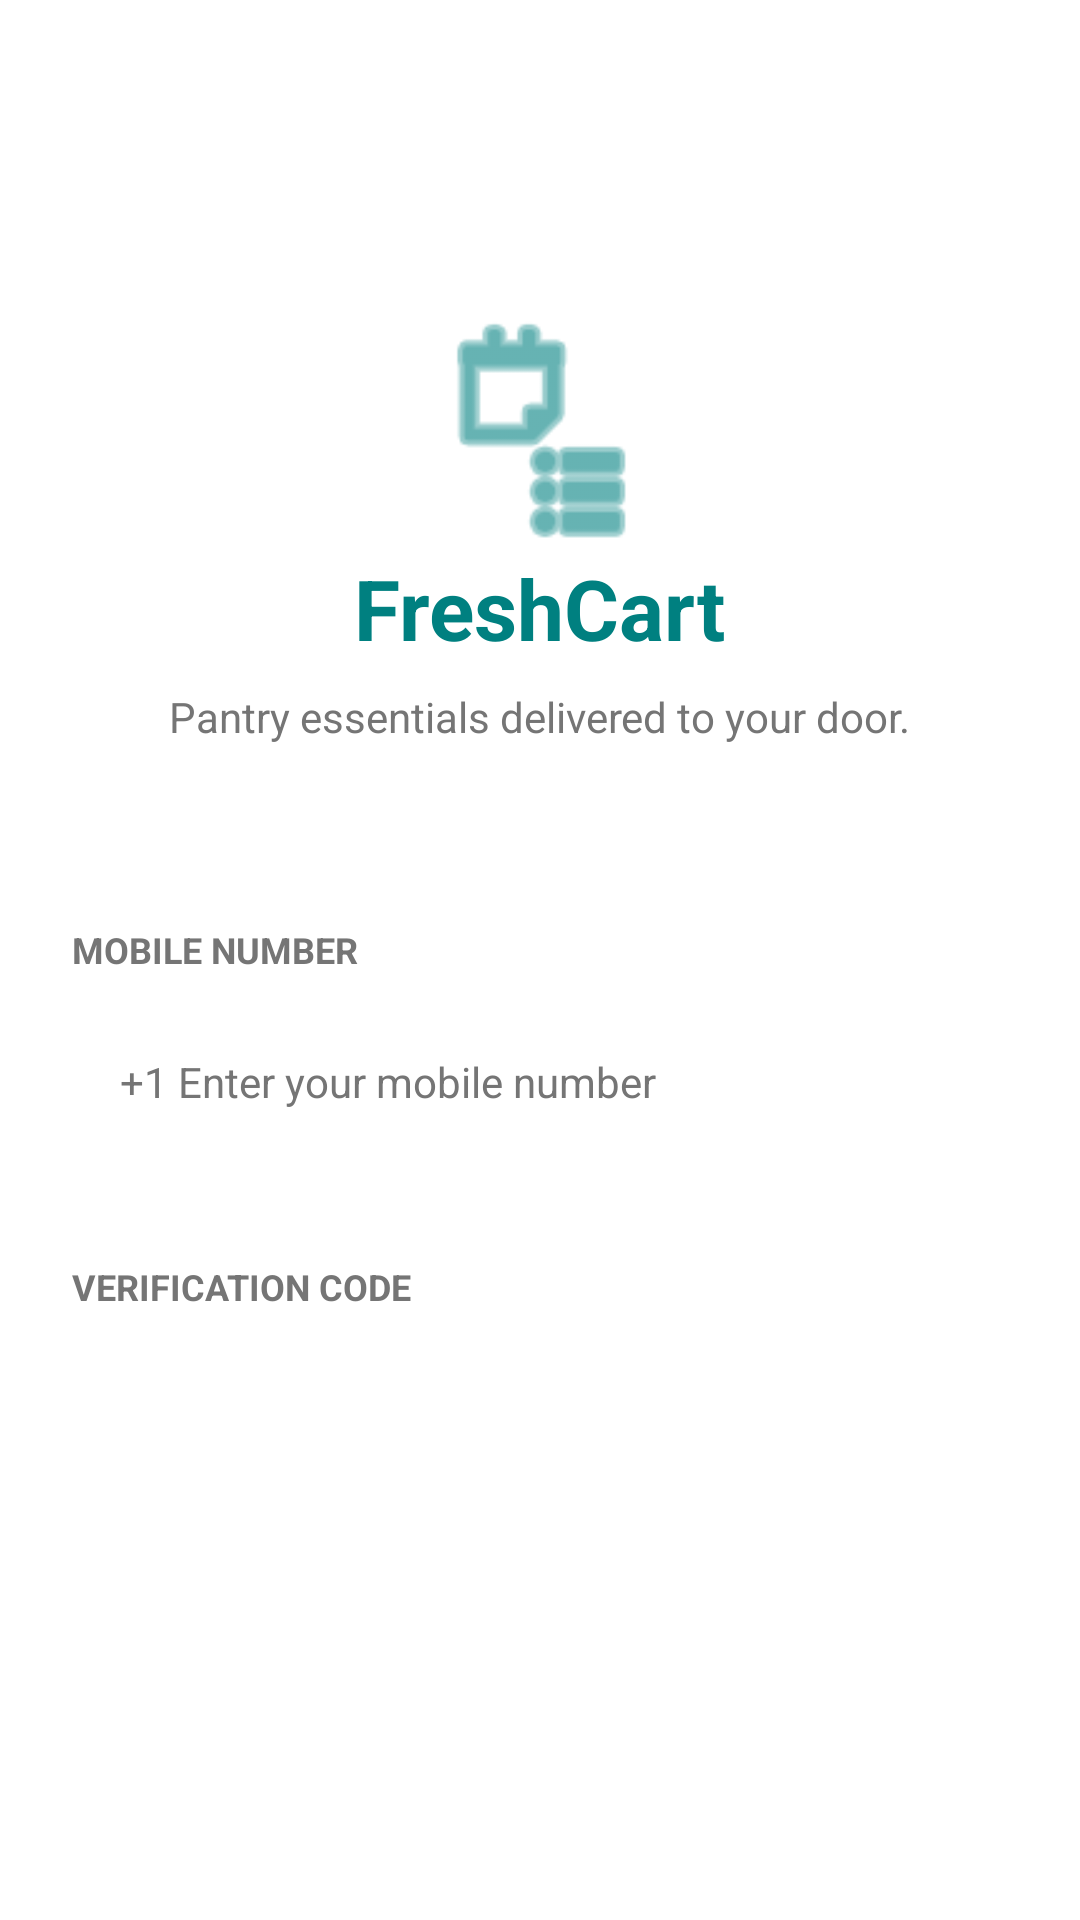

Screen size 1080w x 1920h. Icon name, then its box in pixels as Rect(x1, y1, x2, y2):
agenda: Rect(457, 324, 626, 538)
